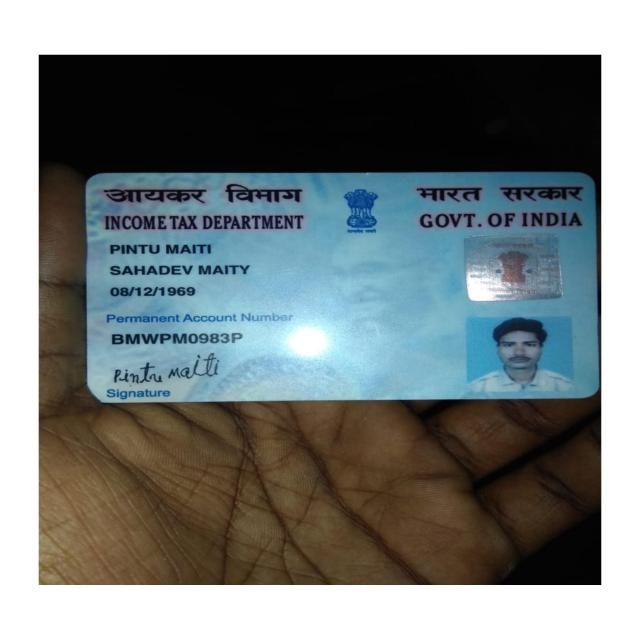pan_card: (90, 173, 590, 405)
